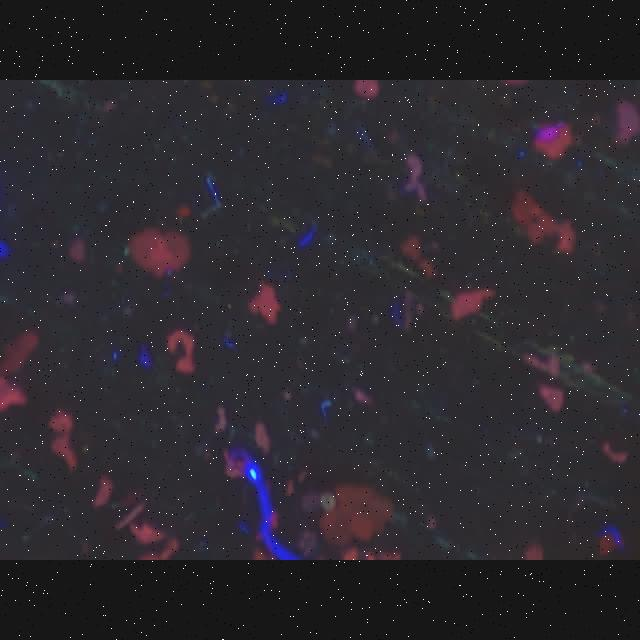Fragment: (52, 408, 76, 472), (250, 282, 280, 326), (168, 329, 196, 375)
